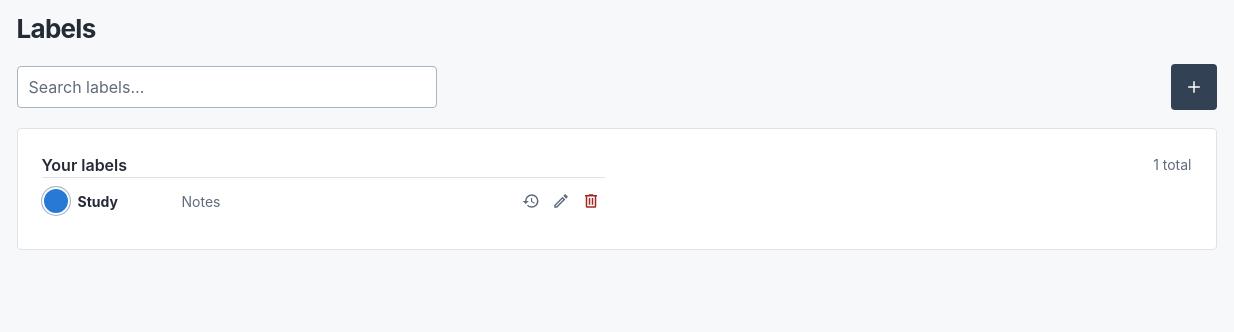
Scenario: LabelsView › preserves an assigned label and explains that assignments must be removed first
Click the button named "Remove Study".
click(590, 201)  # box [576,187,604,215]
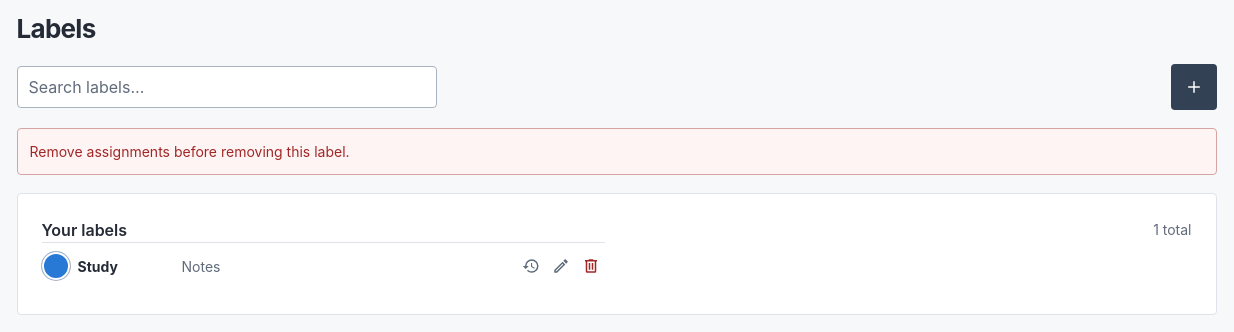
Expected: the text "Study" is shown, [78,258,118,275]
Now the text "Remove assignments before removing this label." is shown, box [16,128,1216,175]
